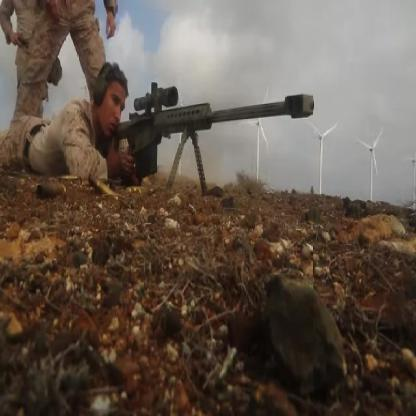Gun: (107, 61, 318, 214)
